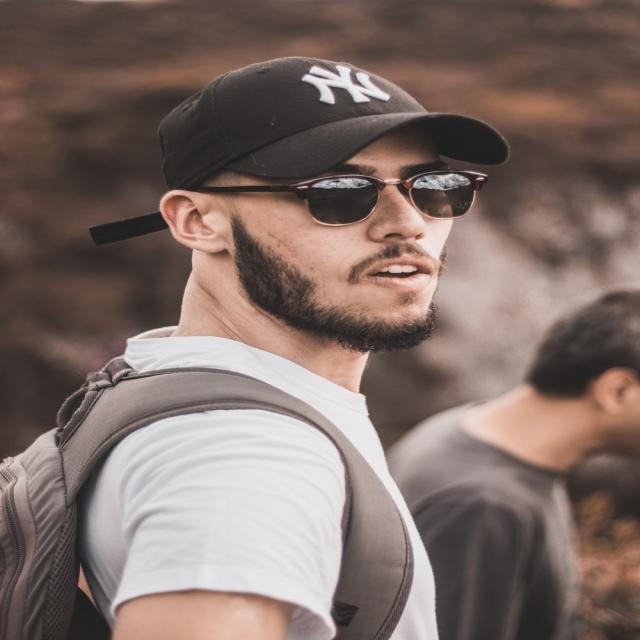3_gorra: (144, 51, 512, 185)
